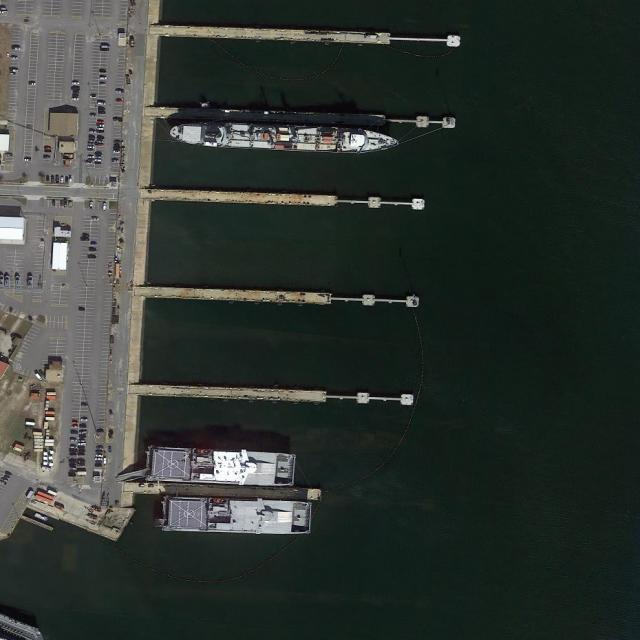Auxiliary Ships: (145, 443, 297, 489), (158, 494, 313, 537)
Cargo: (167, 118, 401, 156)
Dock: (156, 102, 456, 129), (142, 282, 418, 310), (148, 186, 425, 211), (138, 381, 416, 405), (159, 27, 459, 46)
